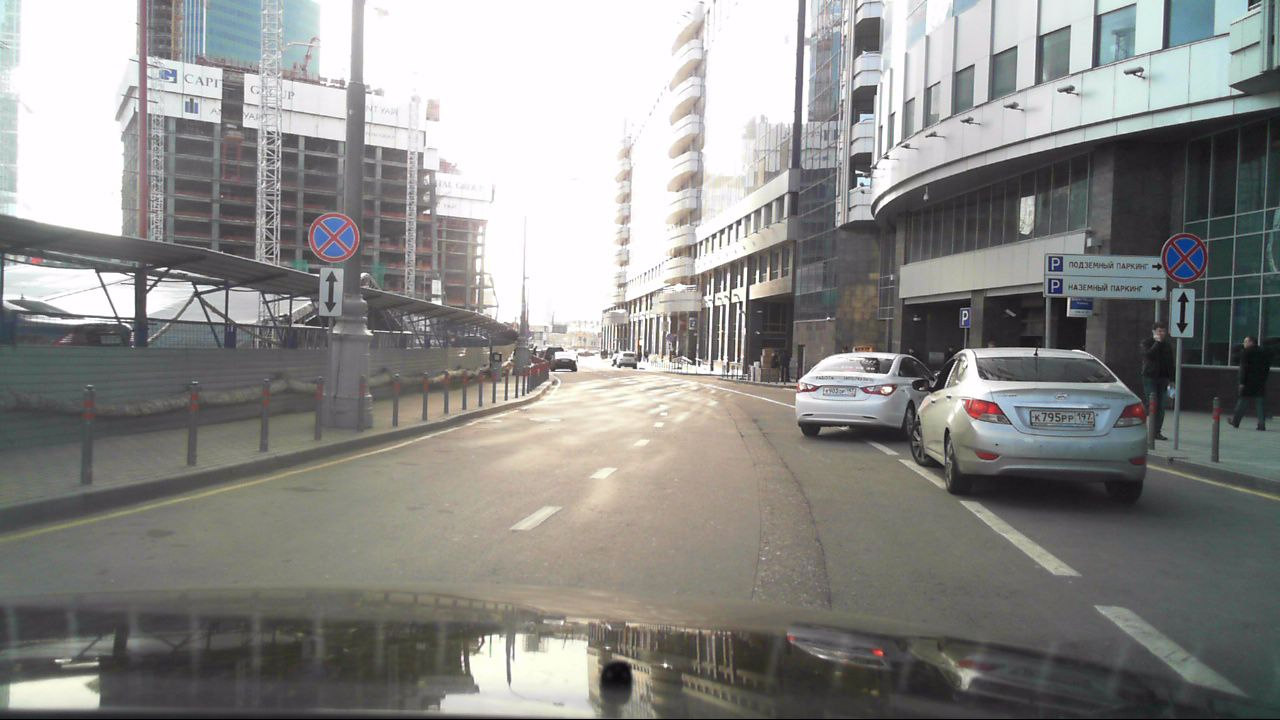No Parking: (1158, 231, 1208, 285)
